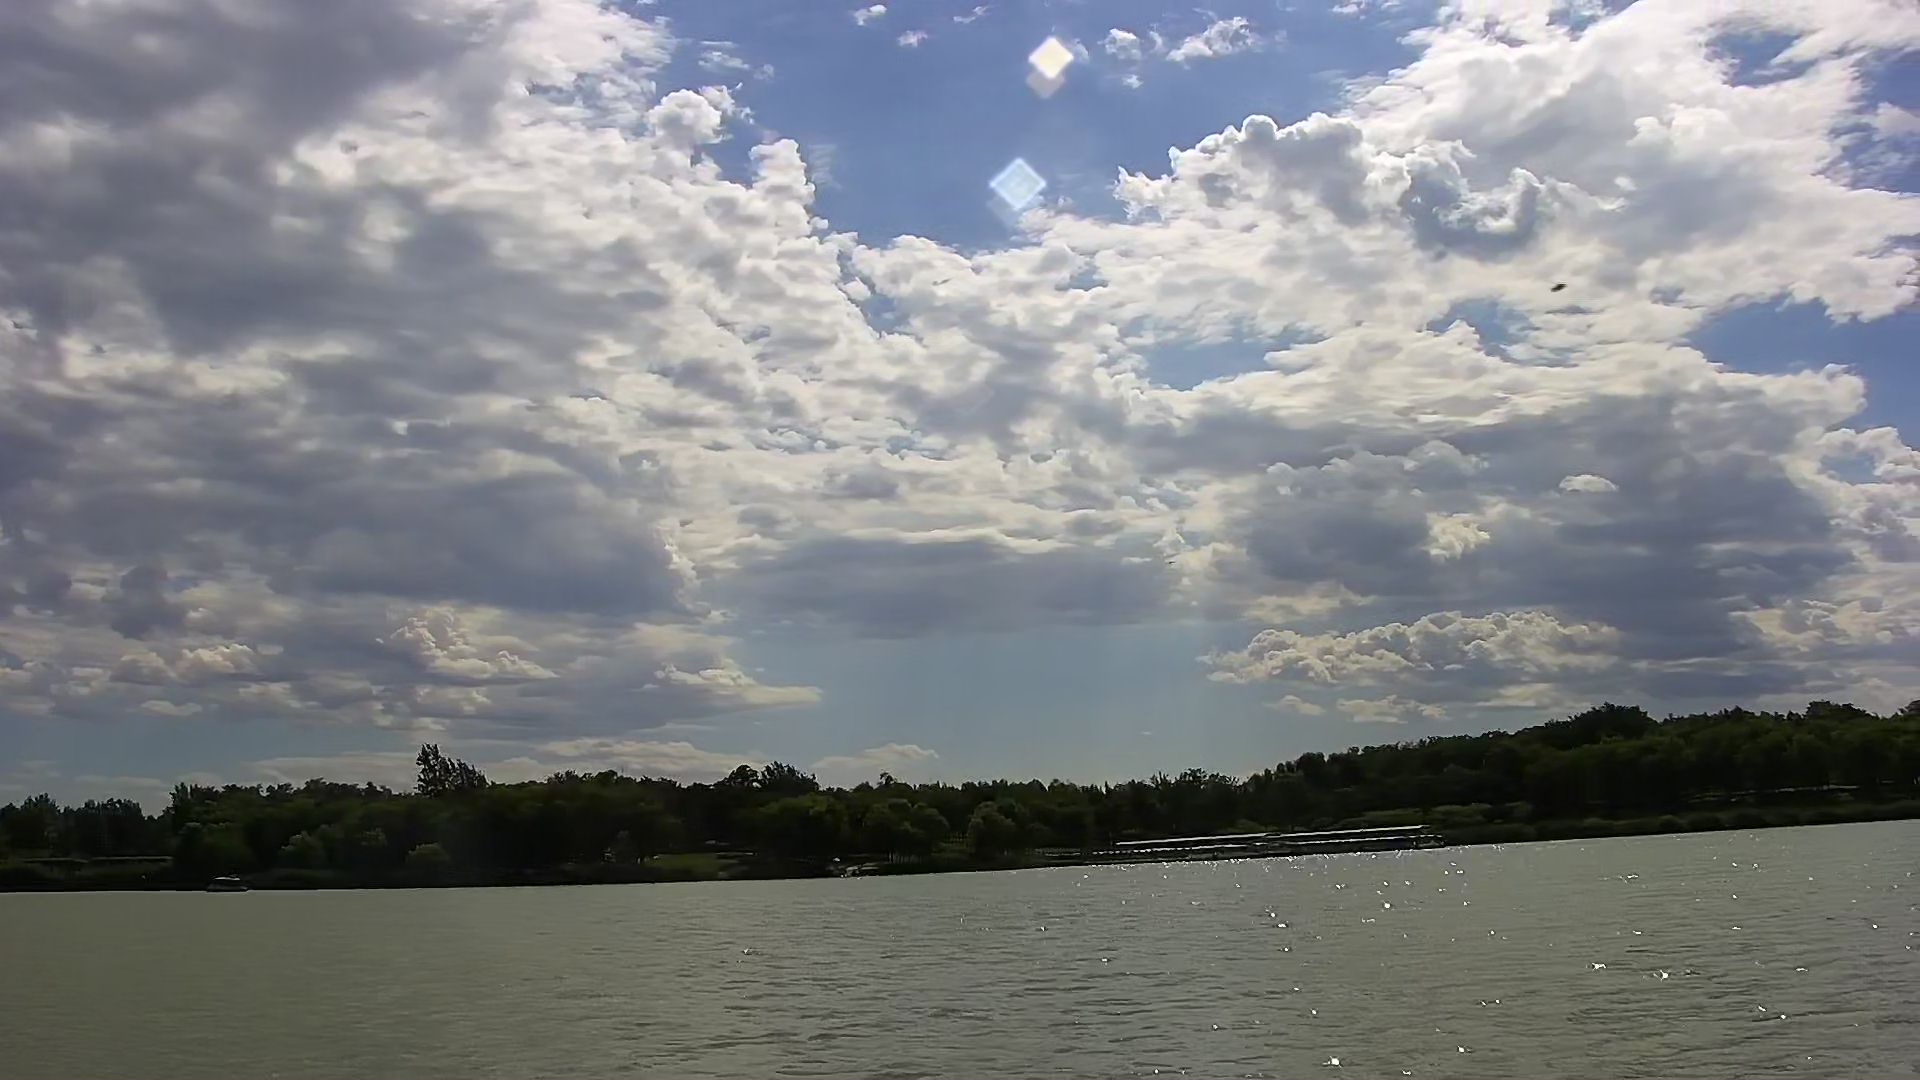harbor: (1106, 822, 1449, 862)
